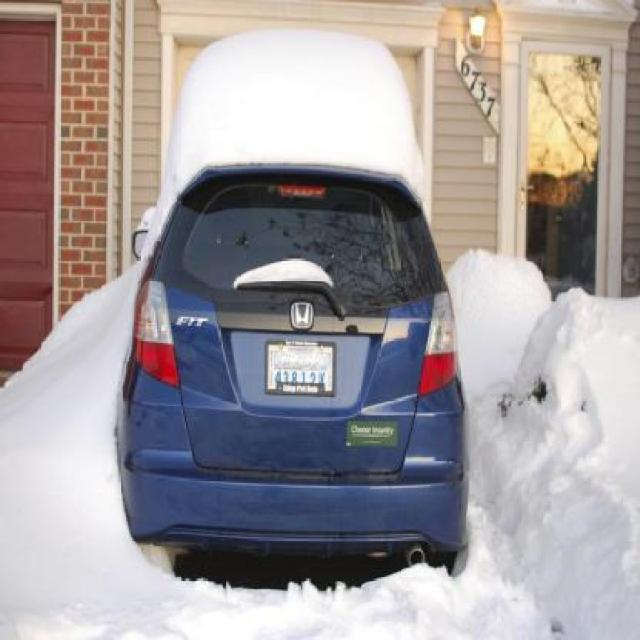Licenseplate: (262, 336, 334, 394)
